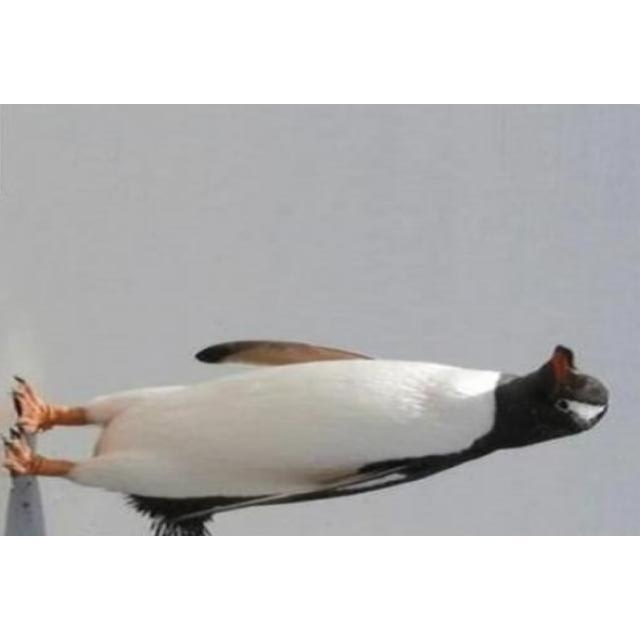penguin: (1, 340, 610, 534)
